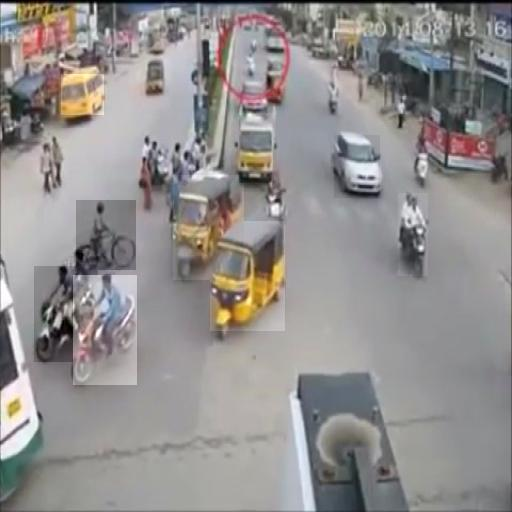小汽车: (210, 221, 285, 331), (173, 175, 244, 280), (334, 135, 380, 198), (239, 115, 274, 183), (61, 74, 104, 115)
自行车: (73, 276, 137, 386), (34, 266, 98, 362), (76, 200, 136, 270), (398, 193, 428, 276)
